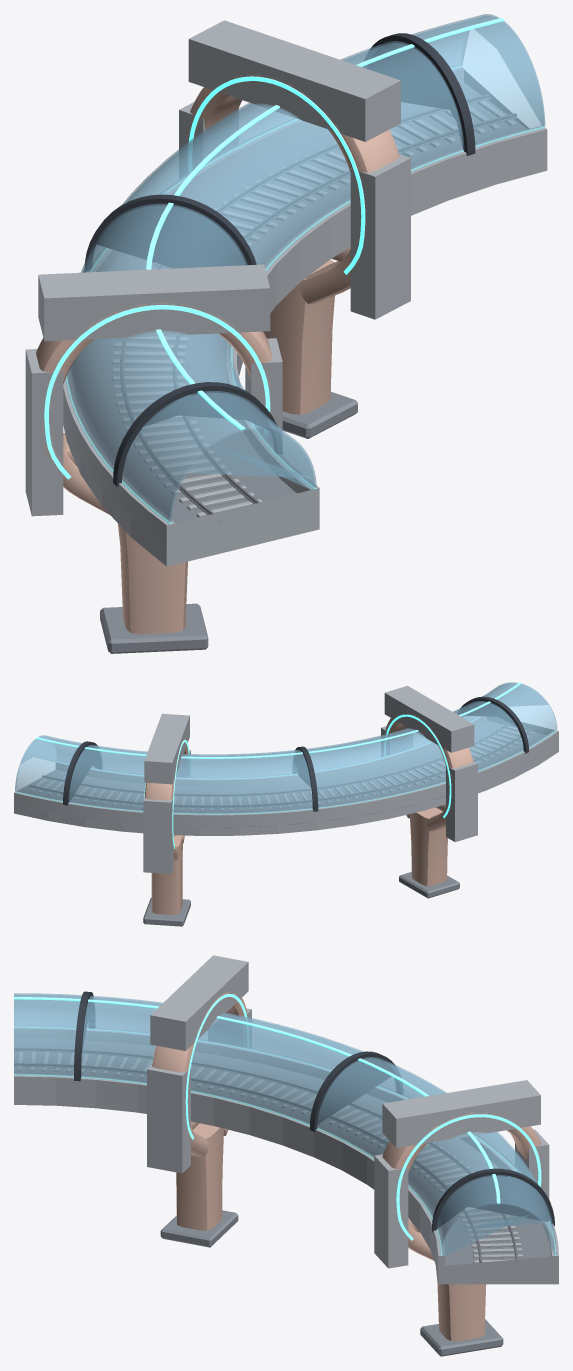
File: trem_tubo_curva.glb
3 views of the same model, one above another, from view 1: azimuth 30°, elevation 25°; view 2: azimuth 150°, elevation 25°; view 3: azimuth 270°, elevation 25° (orthographic). The views are drawn at different scales.
Visible parts, largest first — view 1: trem_tubo_curva, colisao_tubo; view 2: trem_tubo_curva, colisao_tubo; view 3: trem_tubo_curva, colisao_tubo.
Boxes of the visible parts, <box> form: trem_tubo_curva: <box>36,14,545,653</box>; colisao_tubo: <box>25,20,547,566</box>; trem_tubo_curva: <box>14,682,558,926</box>; colisao_tubo: <box>14,685,558,873</box>; trem_tubo_curva: <box>14,991,558,1356</box>; colisao_tubo: <box>14,955,558,1284</box>.
Bounding box in the file's own units: 25.3 × 12.4 × 25.3.
3 materials, 1 textured.
